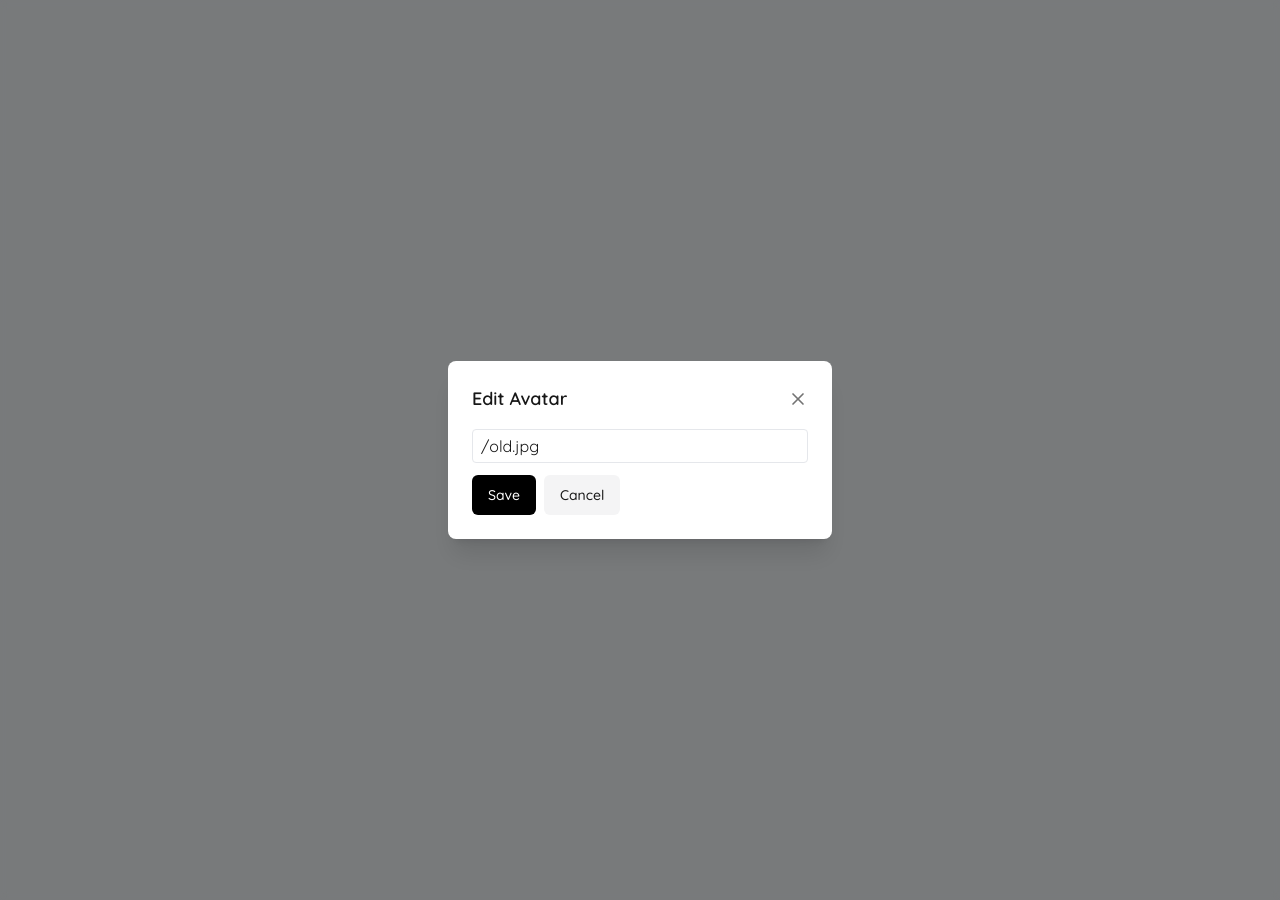
AvatarEditModal › shows error on invalid url
Replace the text in the field with placeholder "Image URL" with "http://example.com". click: (640, 446)
box: [472,429,808,463]
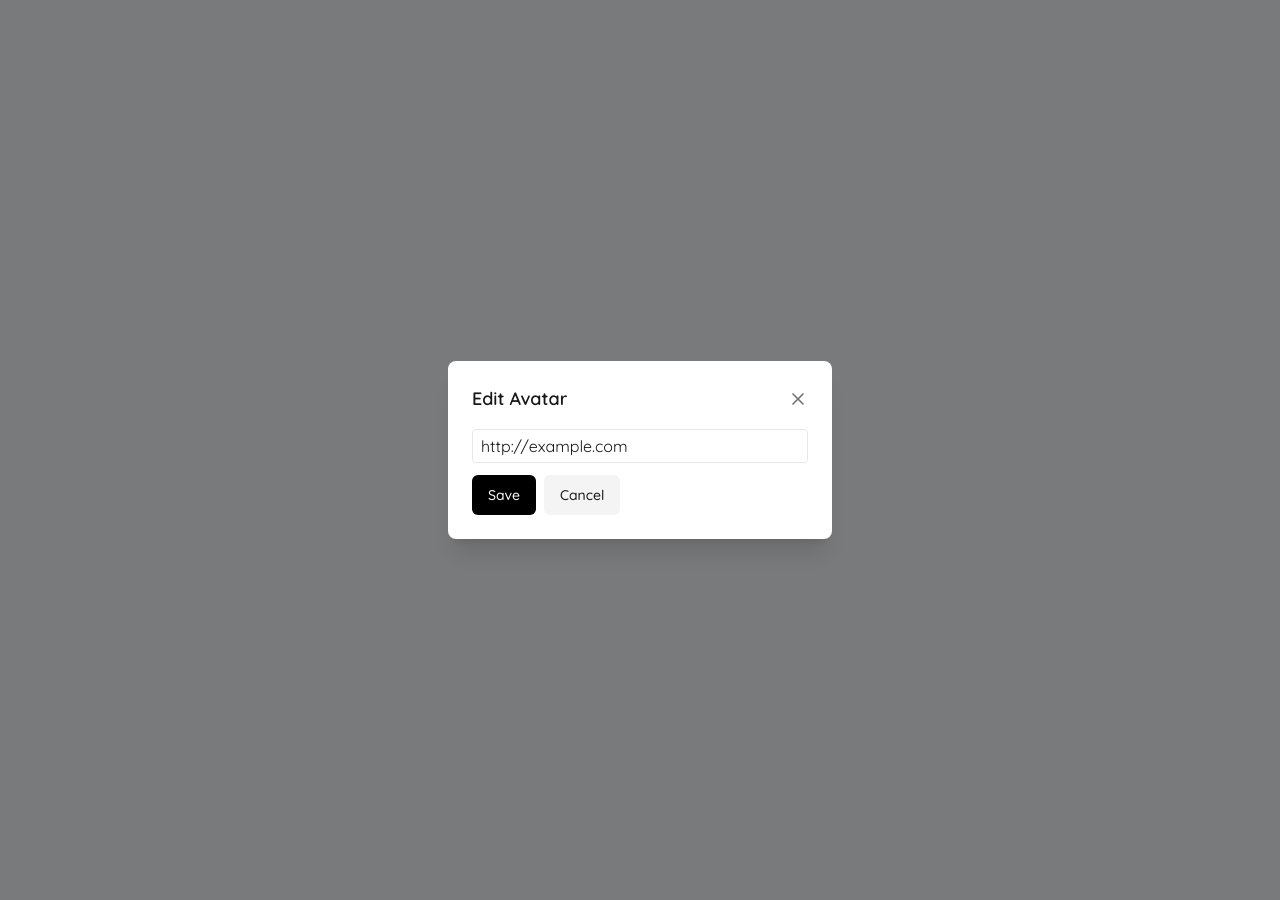
Click the button "Save". click: (504, 495)
box: [472,475,536,515]
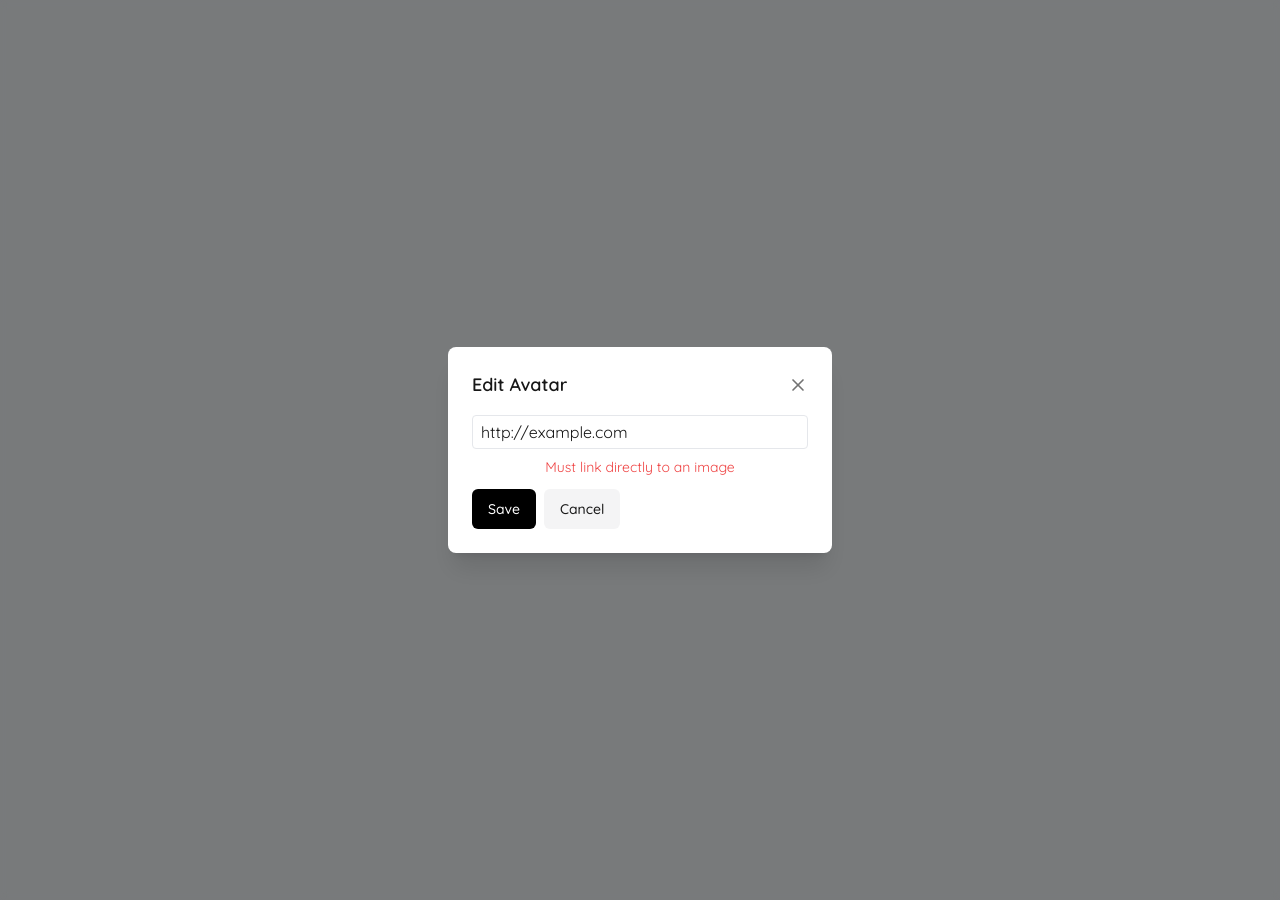
Result: the text "Must link directly to an image" is shown at [545,458,735,476]
